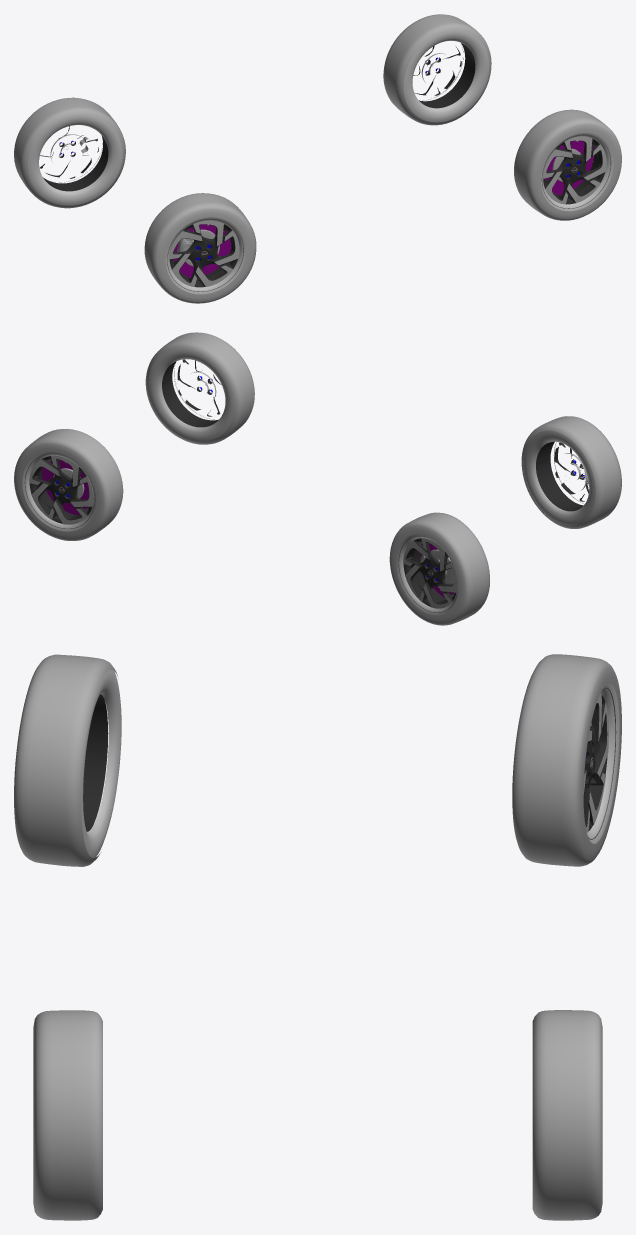
The model's file is MAGNITE_TURBO_CVT_XV_PRE_EX_WHEELS_MESH.glb.
3 views of the same model, one above another, from view 1: azimuth 30°, elevation 25°; view 2: azimuth 150°, elevation 25°; view 3: azimuth 270°, elevation 25° (orthographic). The views are drawn at different scales.
Parts seen in each view (by area): view 1: MAGNITE_TURBO_CVT_XV_PRE_EX_WHEELS_MESH; view 2: MAGNITE_TURBO_CVT_XV_PRE_EX_WHEELS_MESH; view 3: MAGNITE_TURBO_CVT_XV_PRE_EX_WHEELS_MESH.
Boxes of the visible parts, x1,y1,x2,y2 form: MAGNITE_TURBO_CVT_XV_PRE_EX_WHEELS_MESH: (14, 14, 621, 303); MAGNITE_TURBO_CVT_XV_PRE_EX_WHEELS_MESH: (14, 332, 621, 625); MAGNITE_TURBO_CVT_XV_PRE_EX_WHEELS_MESH: (14, 654, 621, 1220).
Size of the model in its own units: 3.15 by 0.692 by 1.88.
